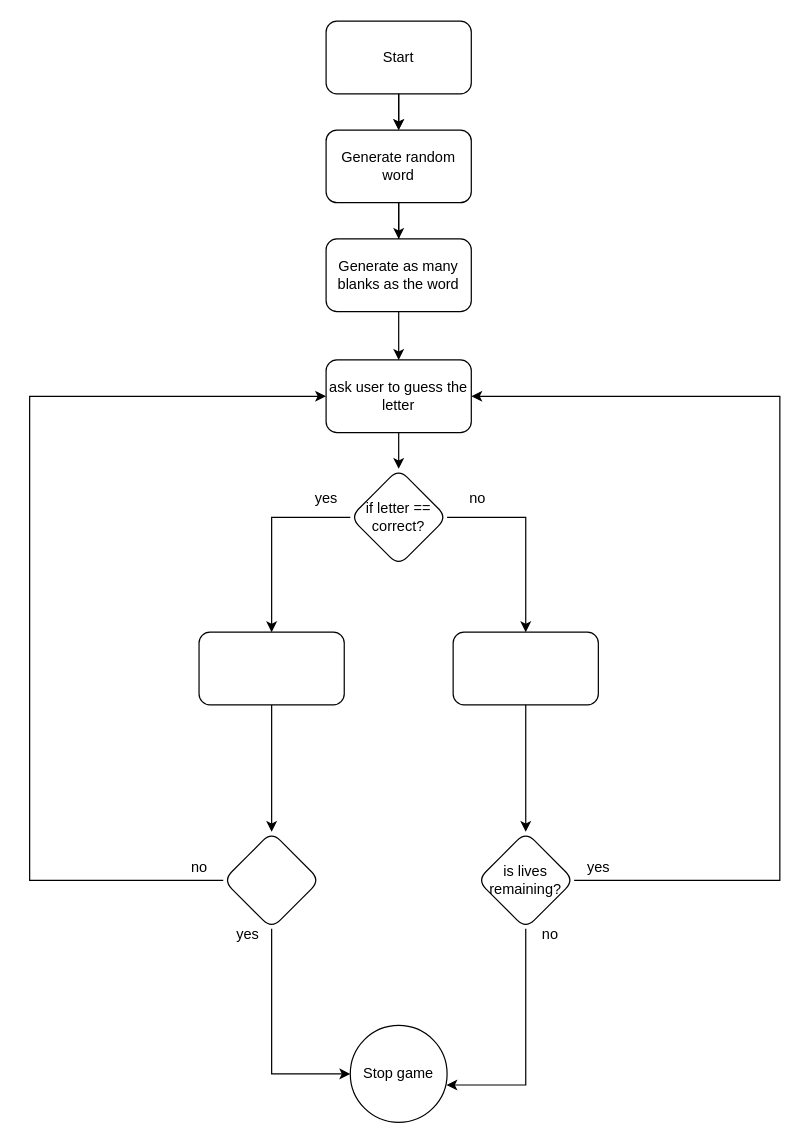
Image size: 811x1143. Some labels were removed from this diagram. Each missing label, with the box of its shape:
draw a line in the hangman diagram and reduce life by 1: (452, 631, 598, 705)
fill the letter in the blank: (198, 631, 344, 705)
if full word guessed right?: (222, 831, 320, 929)
